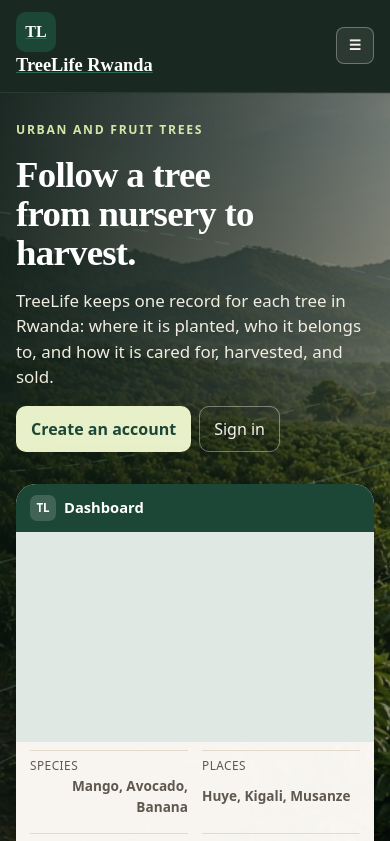
Scenario: HomePage › renders LandingHeader with mobile menu toggle and decluttered Hero
Expected: the link "TL TreeLife Rwanda" is shown, [16,12,153,80]
Expected: the heading "Follow a tree from nursery to harvest." is shown, [16,155,255,272]
Click the button named "Open navigation menu" at [355, 46], box [336,28,374,64]
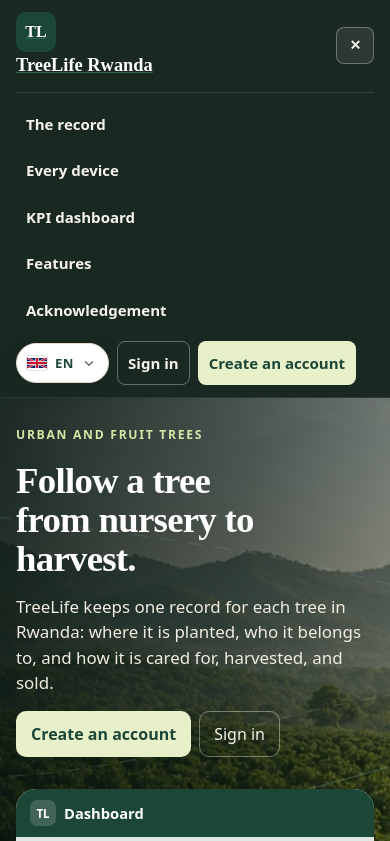
Result: the button named "Close navigation menu" is expanded
Result: the element with id "home-mobile-drawer" is shown at [16,92,374,385]
Click the button named "Close navigation menu" at [355, 46], box [336,28,374,64]
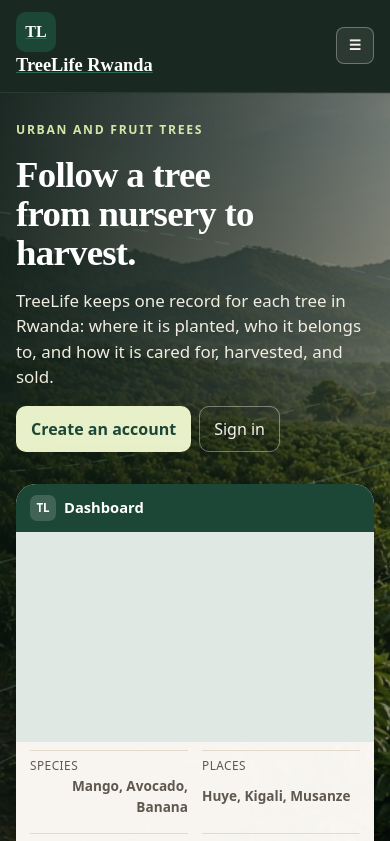
Result: the element with id "home-mobile-drawer" is gone
